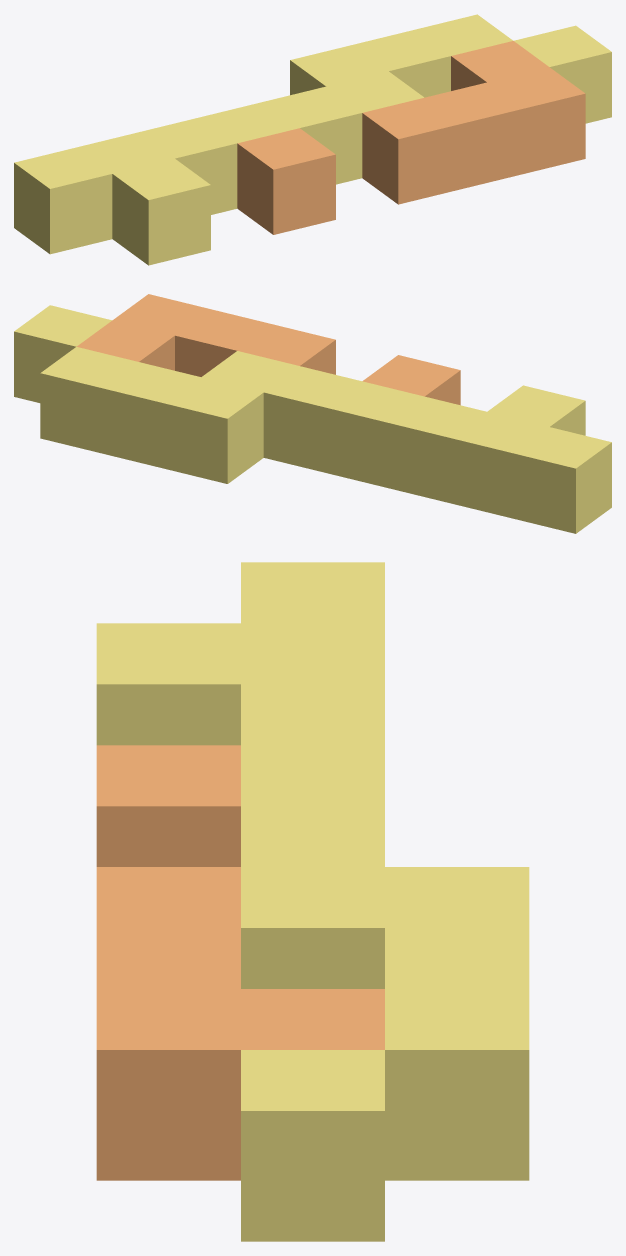
The model's file is key.obj.
The picture shows the model from 3 angles, top to bottom: view 1: azimuth 30°, elevation 25°; view 2: azimuth 150°, elevation 25°; view 3: azimuth 270°, elevation 25°; orthographic projection. The views are drawn at different scales.
Parts seen in each view (by area): view 1: key; view 2: key; view 3: key.
Boxes of the visible parts, x1=… form: key: x1=14, y1=14, x2=611, y2=265; key: x1=14, y1=294, x2=611, y2=533; key: x1=96, y1=562, x2=529, y2=1241.
Size of the model in its own units: 7.64 by 0.8489 by 2.55.
1 material, 1 textured.
